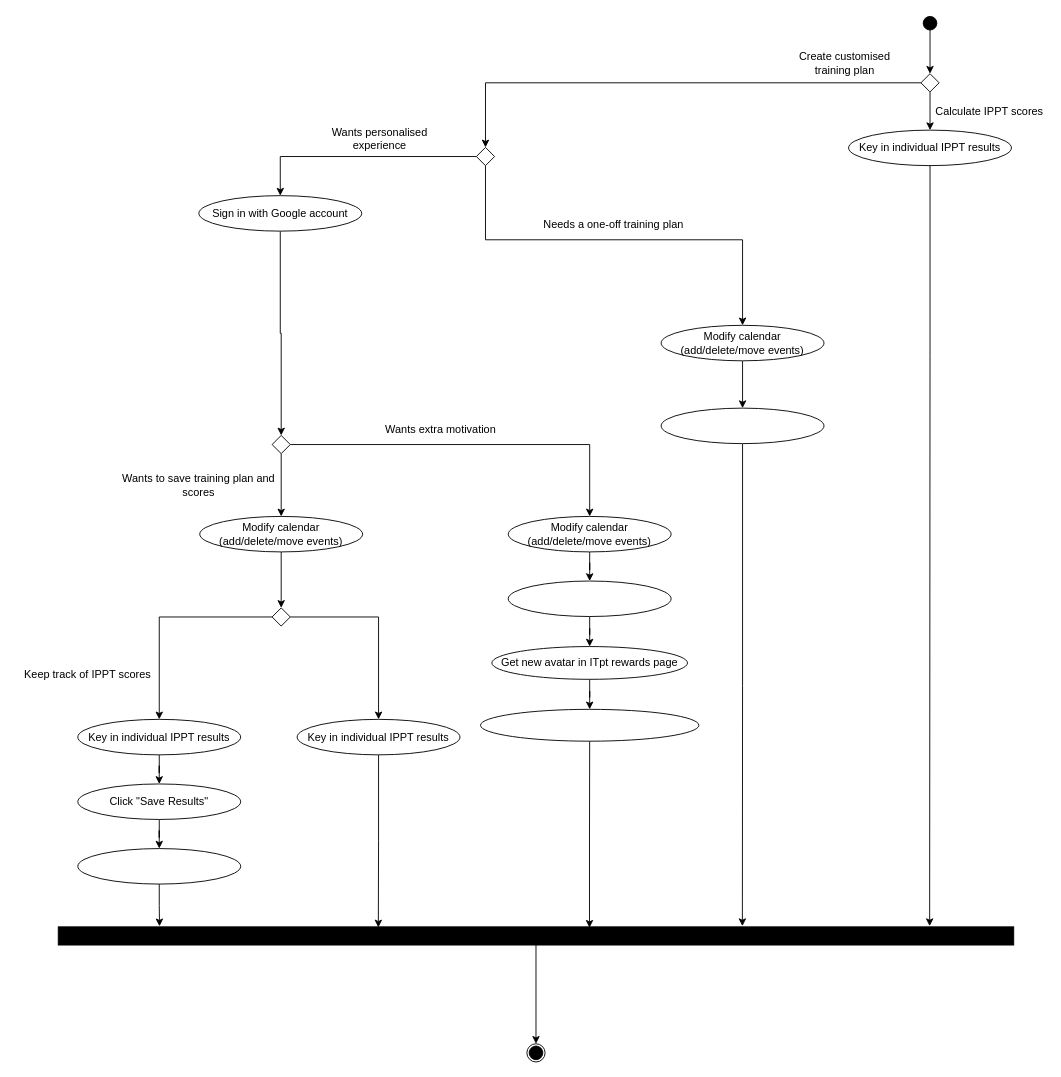
Some shapes in this 1061 by 1077 pixel diagram are drawn without their labels. Each missing label, with the box of its shape:
Complete events in calendar: (507, 580, 671, 617)
Customise Profile Page with new avatar: (480, 708, 699, 741)
Export calendar: (660, 407, 824, 444)
View past results in Profile Page: (77, 848, 241, 884)
